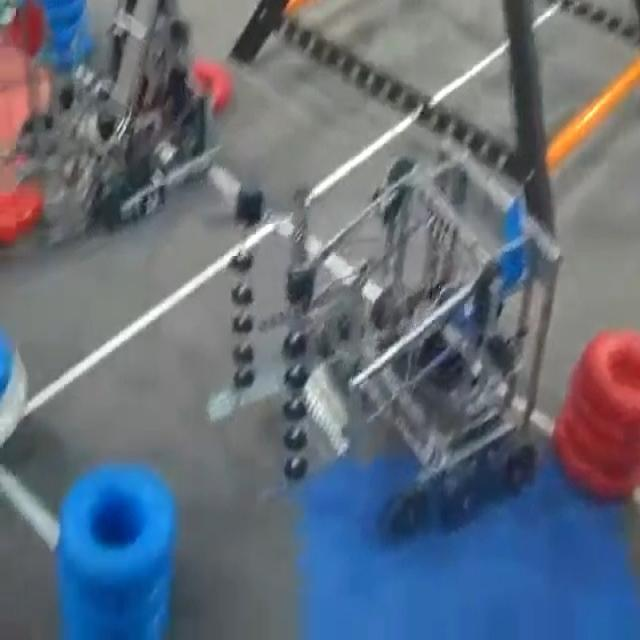Blue-Ring: (58, 465, 176, 582), (61, 570, 176, 640), (45, 25, 94, 72), (52, 8, 83, 49), (44, 0, 86, 27)
Red-Ring: (554, 423, 640, 498), (571, 332, 640, 423), (562, 377, 639, 442), (562, 412, 640, 472), (0, 182, 42, 242), (191, 58, 234, 112)
